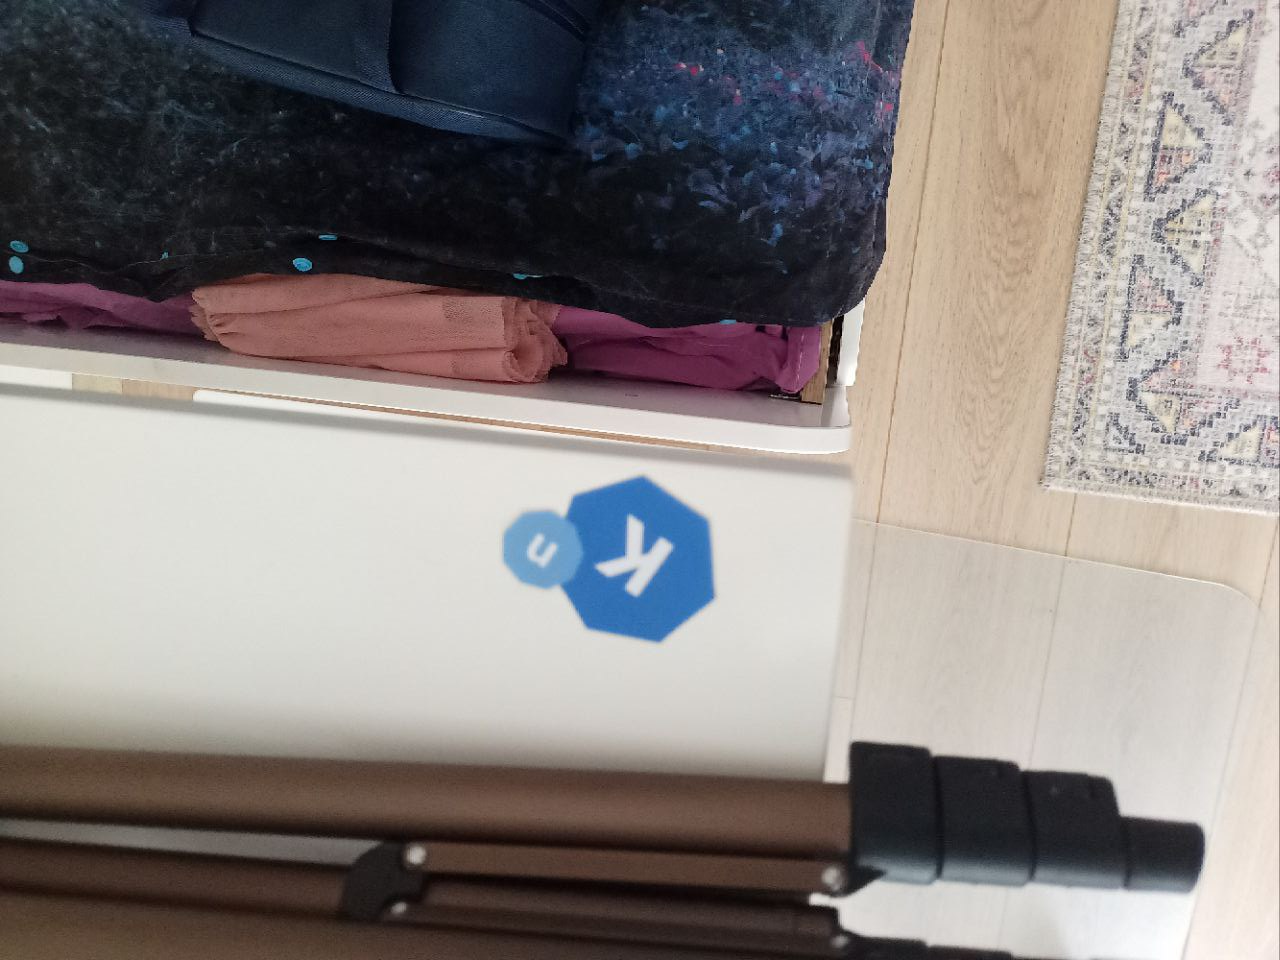knative: (501, 472, 719, 648)
